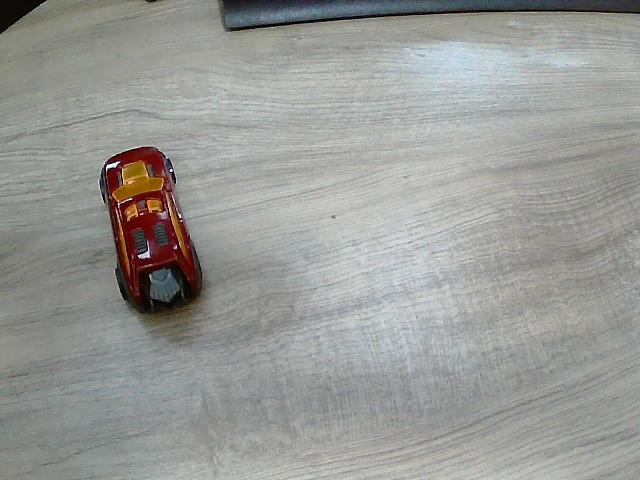Carro: (100, 147, 203, 313)
